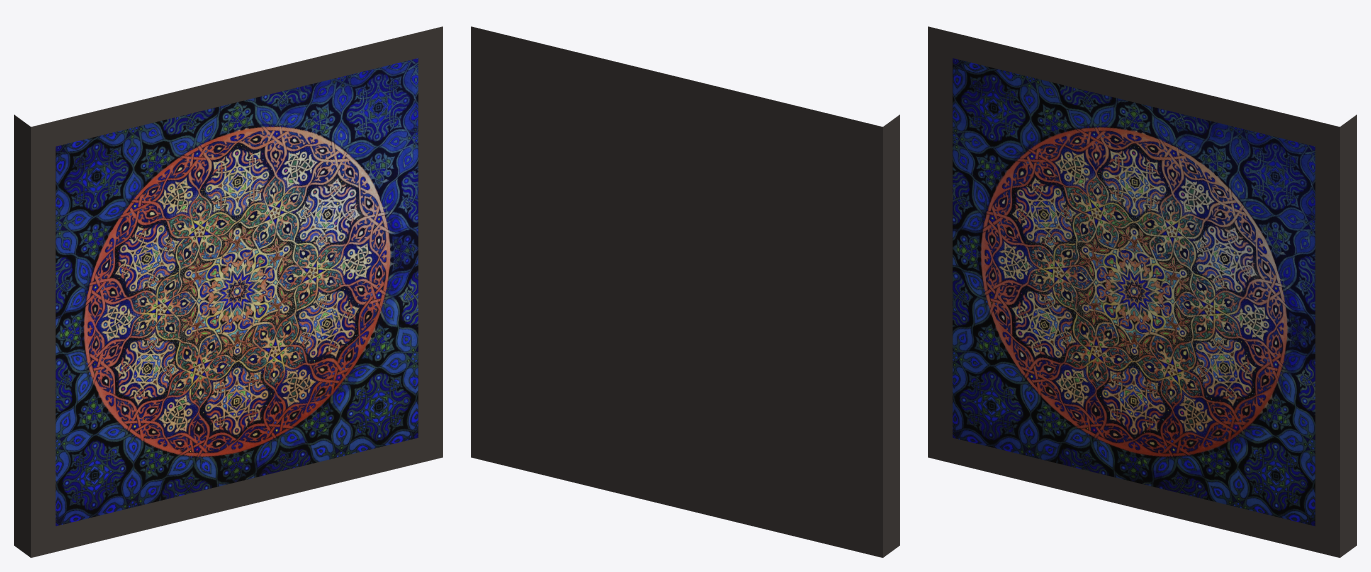
Rendered from peacock-minerva-v1.glb.
3 views of the same model, side by side, from view 1: azimuth 30°, elevation 25°; view 2: azimuth 150°, elevation 25°; view 3: azimuth 330°, elevation 25° (orthographic).
Parts seen in each view (by area): view 1: FramedPrint; view 2: FramedPrint; view 3: FramedPrint.
Part boxes in pixels (bbox=[...]): FramedPrint: bbox=[14, 26, 442, 557]; FramedPrint: bbox=[471, 26, 899, 557]; FramedPrint: bbox=[928, 26, 1356, 557].
Size of the model in its own units: 0.42 by 0.42 by 0.03.
2 materials, 1 textured.
